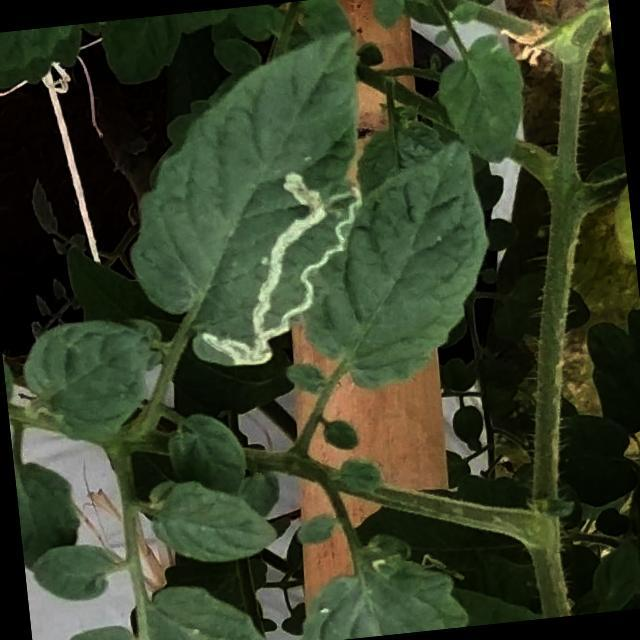Tomato healthy leaf: (288, 130, 504, 398), (10, 308, 158, 450)
Tomato target spot leaf: (106, 24, 394, 380)
